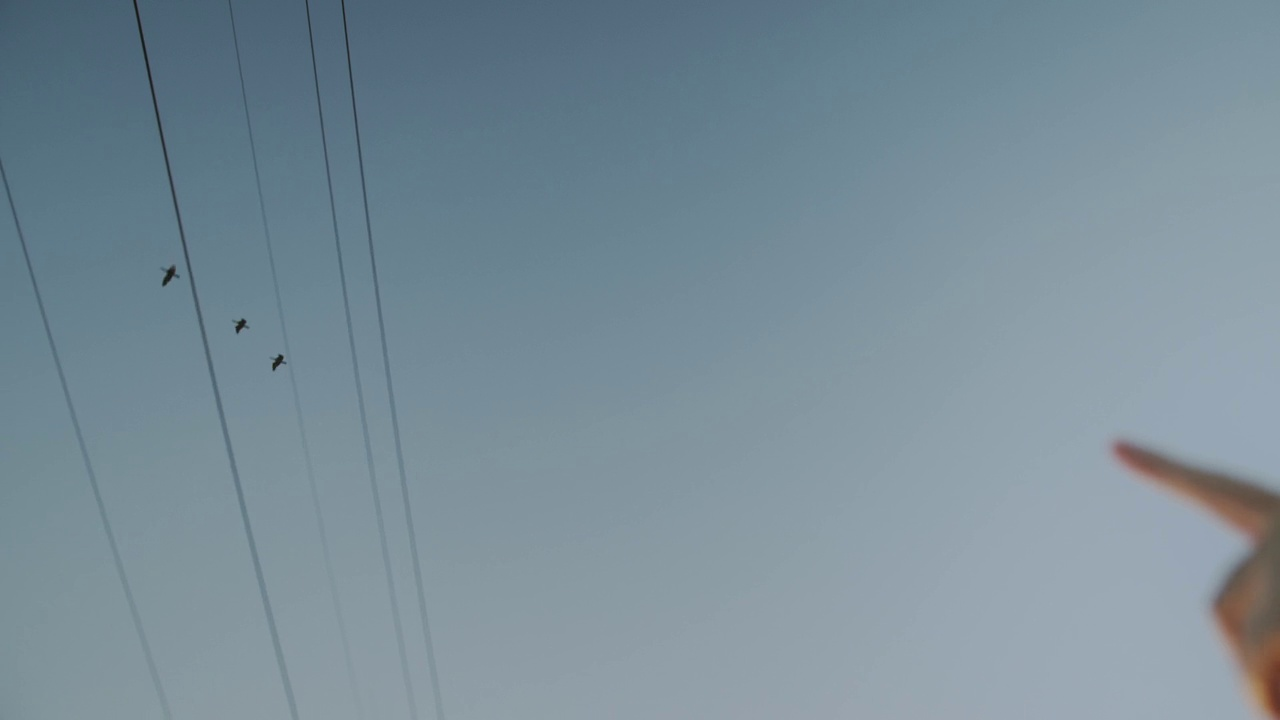bird: (158, 264, 178, 286), (268, 352, 288, 372), (231, 317, 250, 334)
